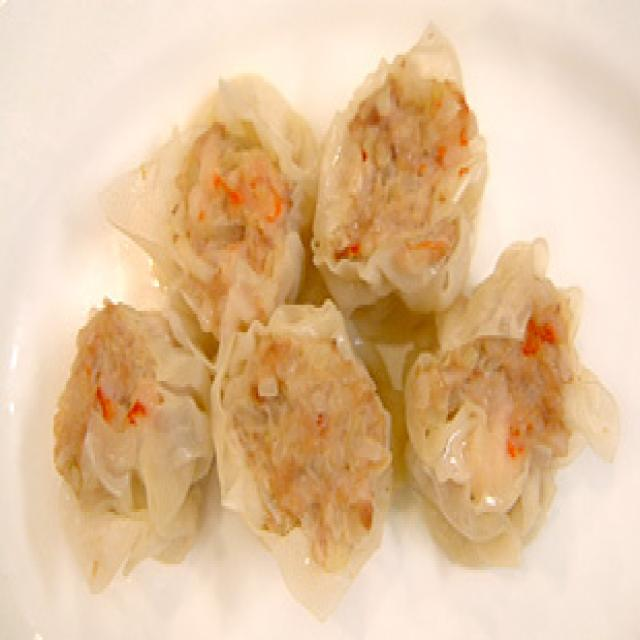带馅早点: (52, 18, 626, 622)
